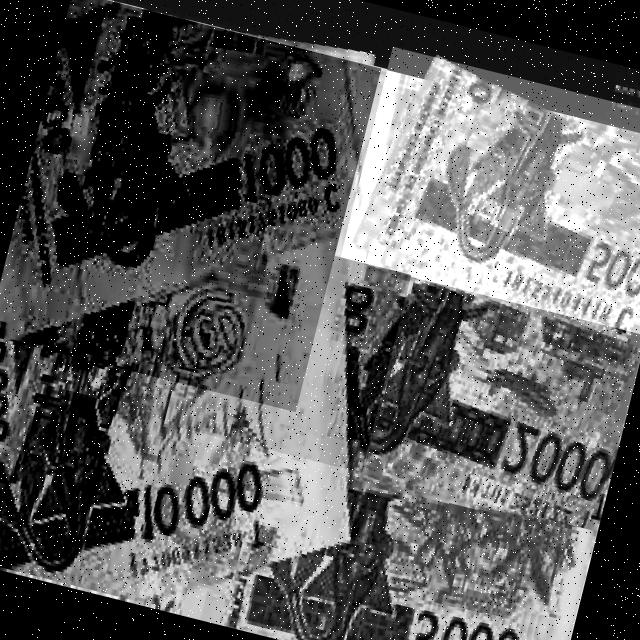junni: (136, 494, 594, 640)
niaar junni: (0, 253, 348, 594)
niaar teemeer: (2, 6, 354, 338)
nient teemeer: (342, 268, 640, 548)
teemeer: (345, 57, 640, 346)
